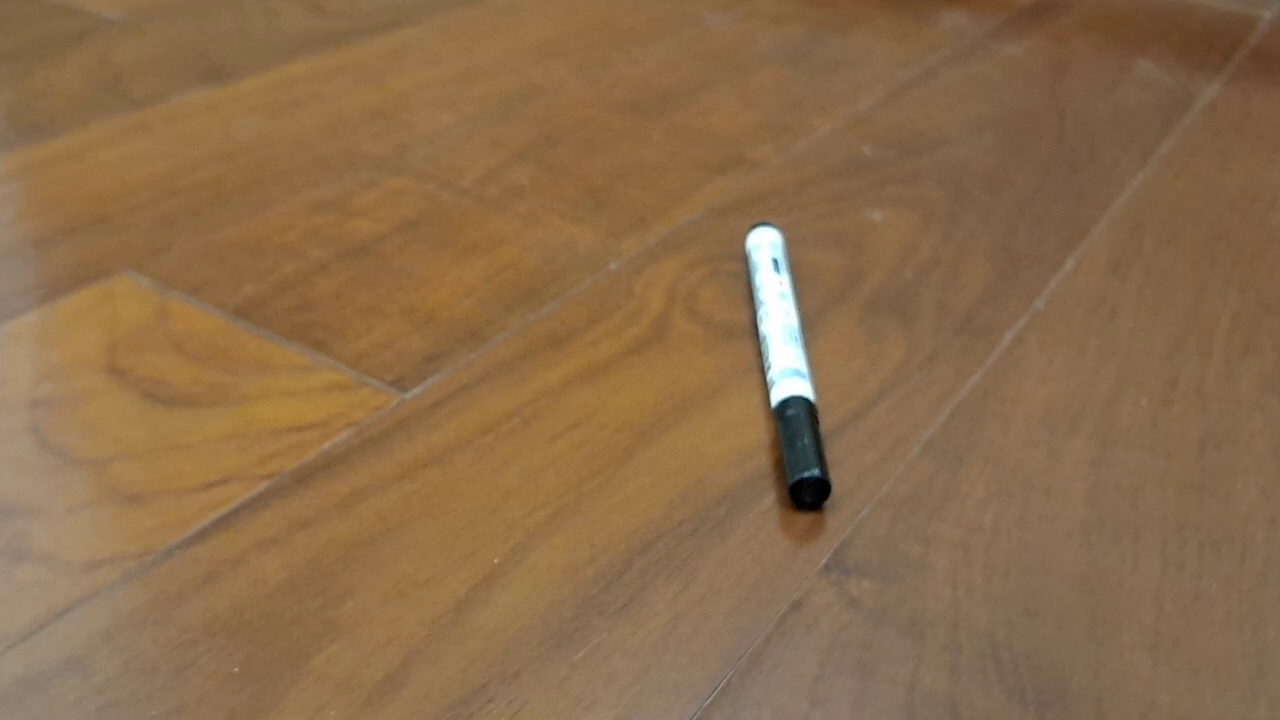pen: (744, 222, 832, 511)
